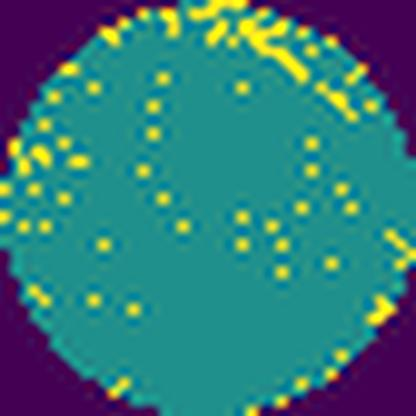Loc: (242, 21, 314, 78)
